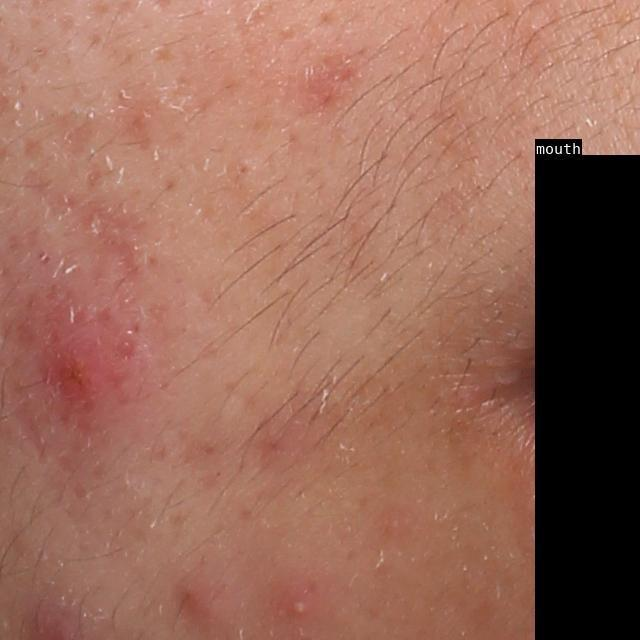atrophic_scar: (40, 106, 98, 162)
comedo: (235, 156, 254, 181)
papule: (45, 326, 123, 407), (176, 572, 222, 625)
pustule: (279, 588, 322, 622)
